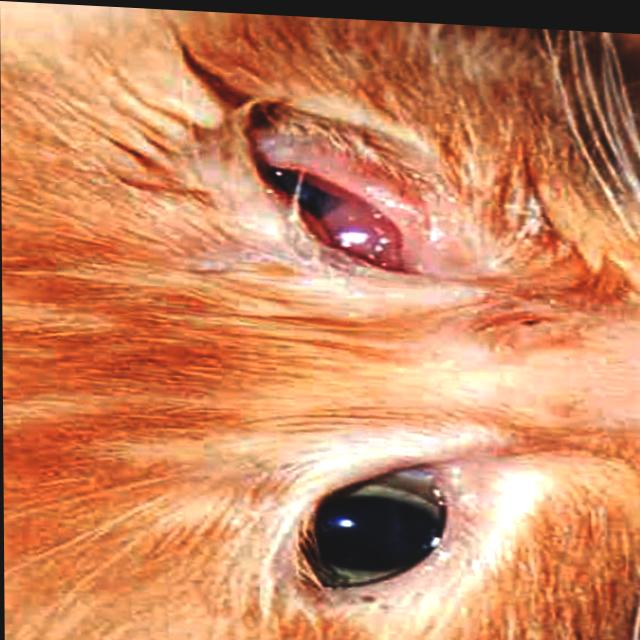eye_infection: (304, 469, 445, 588), (276, 167, 405, 268)
